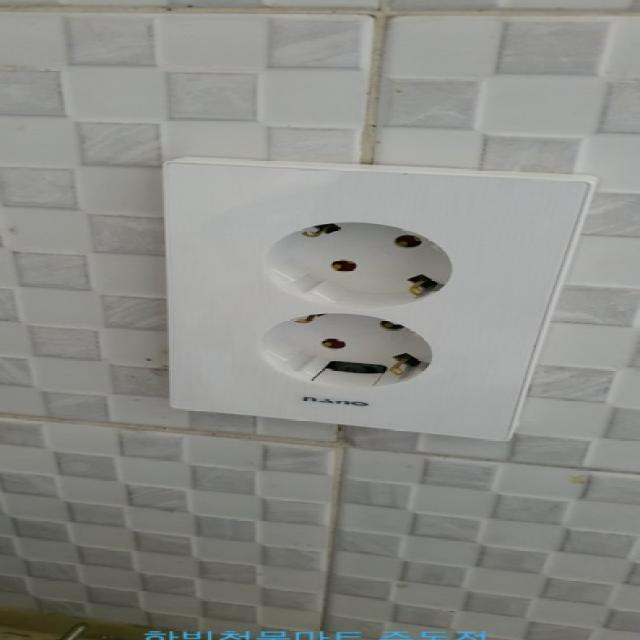typeb: (130, 114, 610, 486)
